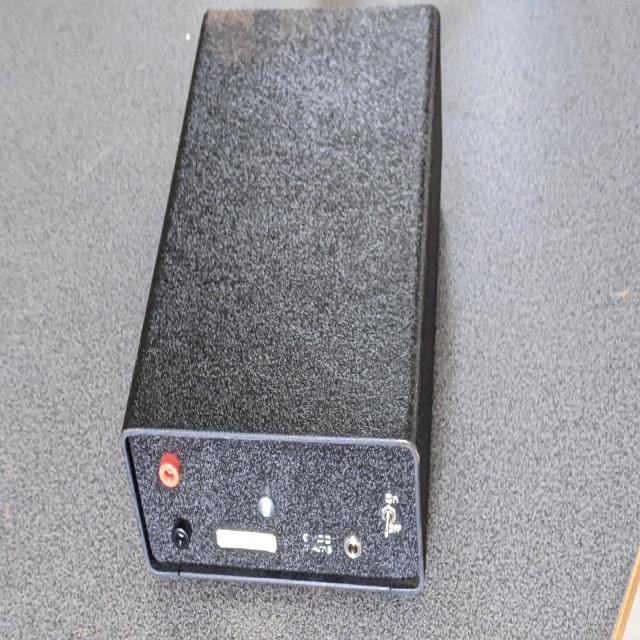SRP Digital Spark Timer: (119, 3, 435, 625)
